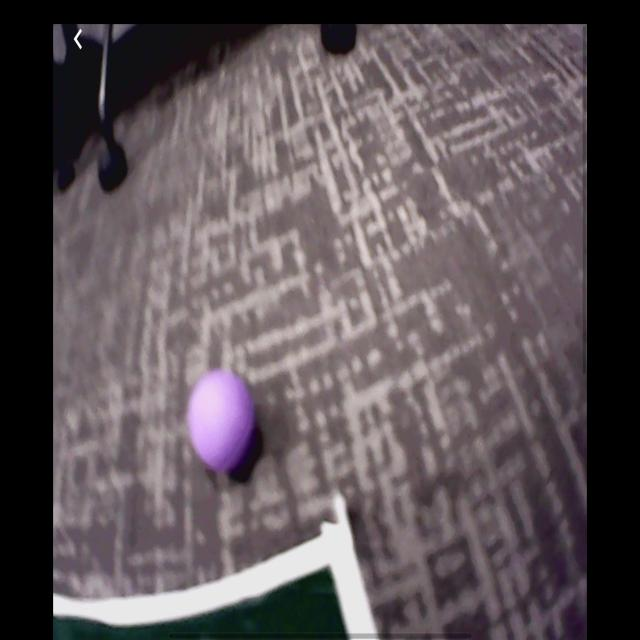ball: (188, 372, 252, 466)
